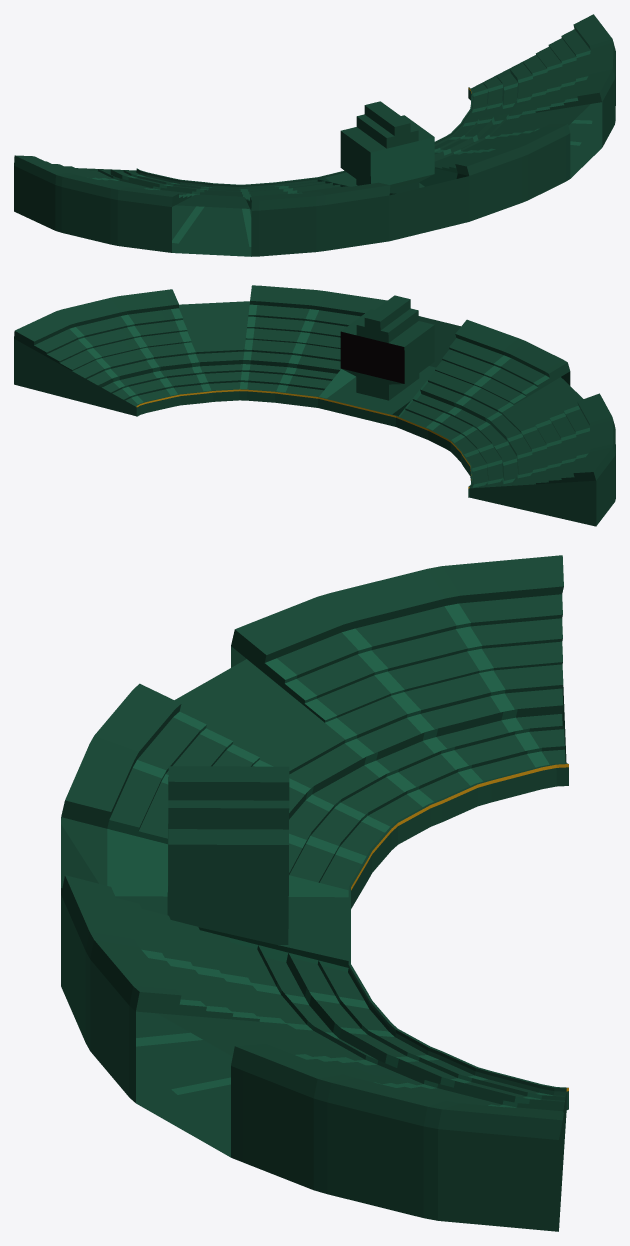
File: koshien_ver03.fbx
3 renders of one model, top to bottom at view 1: azimuth 30°, elevation 25°; view 2: azimuth 150°, elevation 25°; view 3: azimuth 270°, elevation 25°, orthographic. The views are drawn at different scales.
Visible parts, largest first — view 1: Cube; view 2: Cube; view 3: Cube.
Part boxes in pixels (left/top/right/bottom): Cube: left=14, top=14, right=615, bottom=256; Cube: left=14, top=285, right=615, bottom=526; Cube: left=61, top=555, right=568, bottom=1231.
Bounding box in the file's own units: 24.06 × 3.43 × 9.09.
